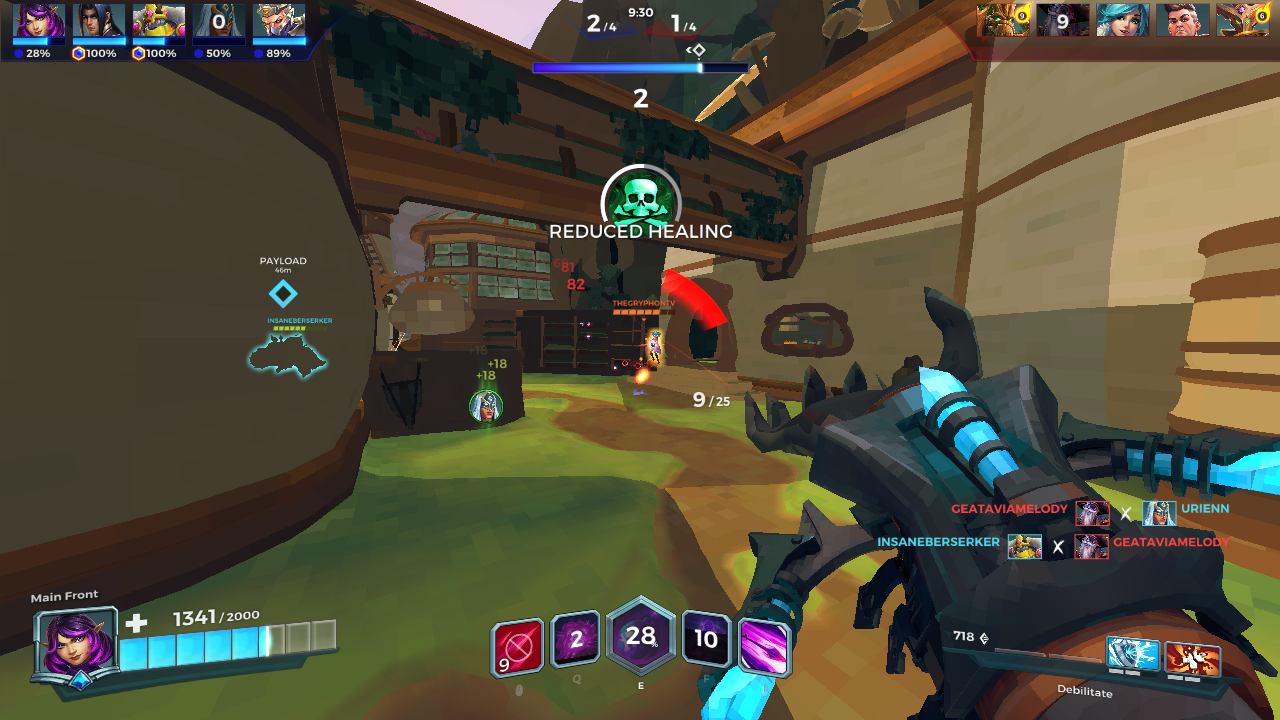model: (643, 325, 666, 366)
